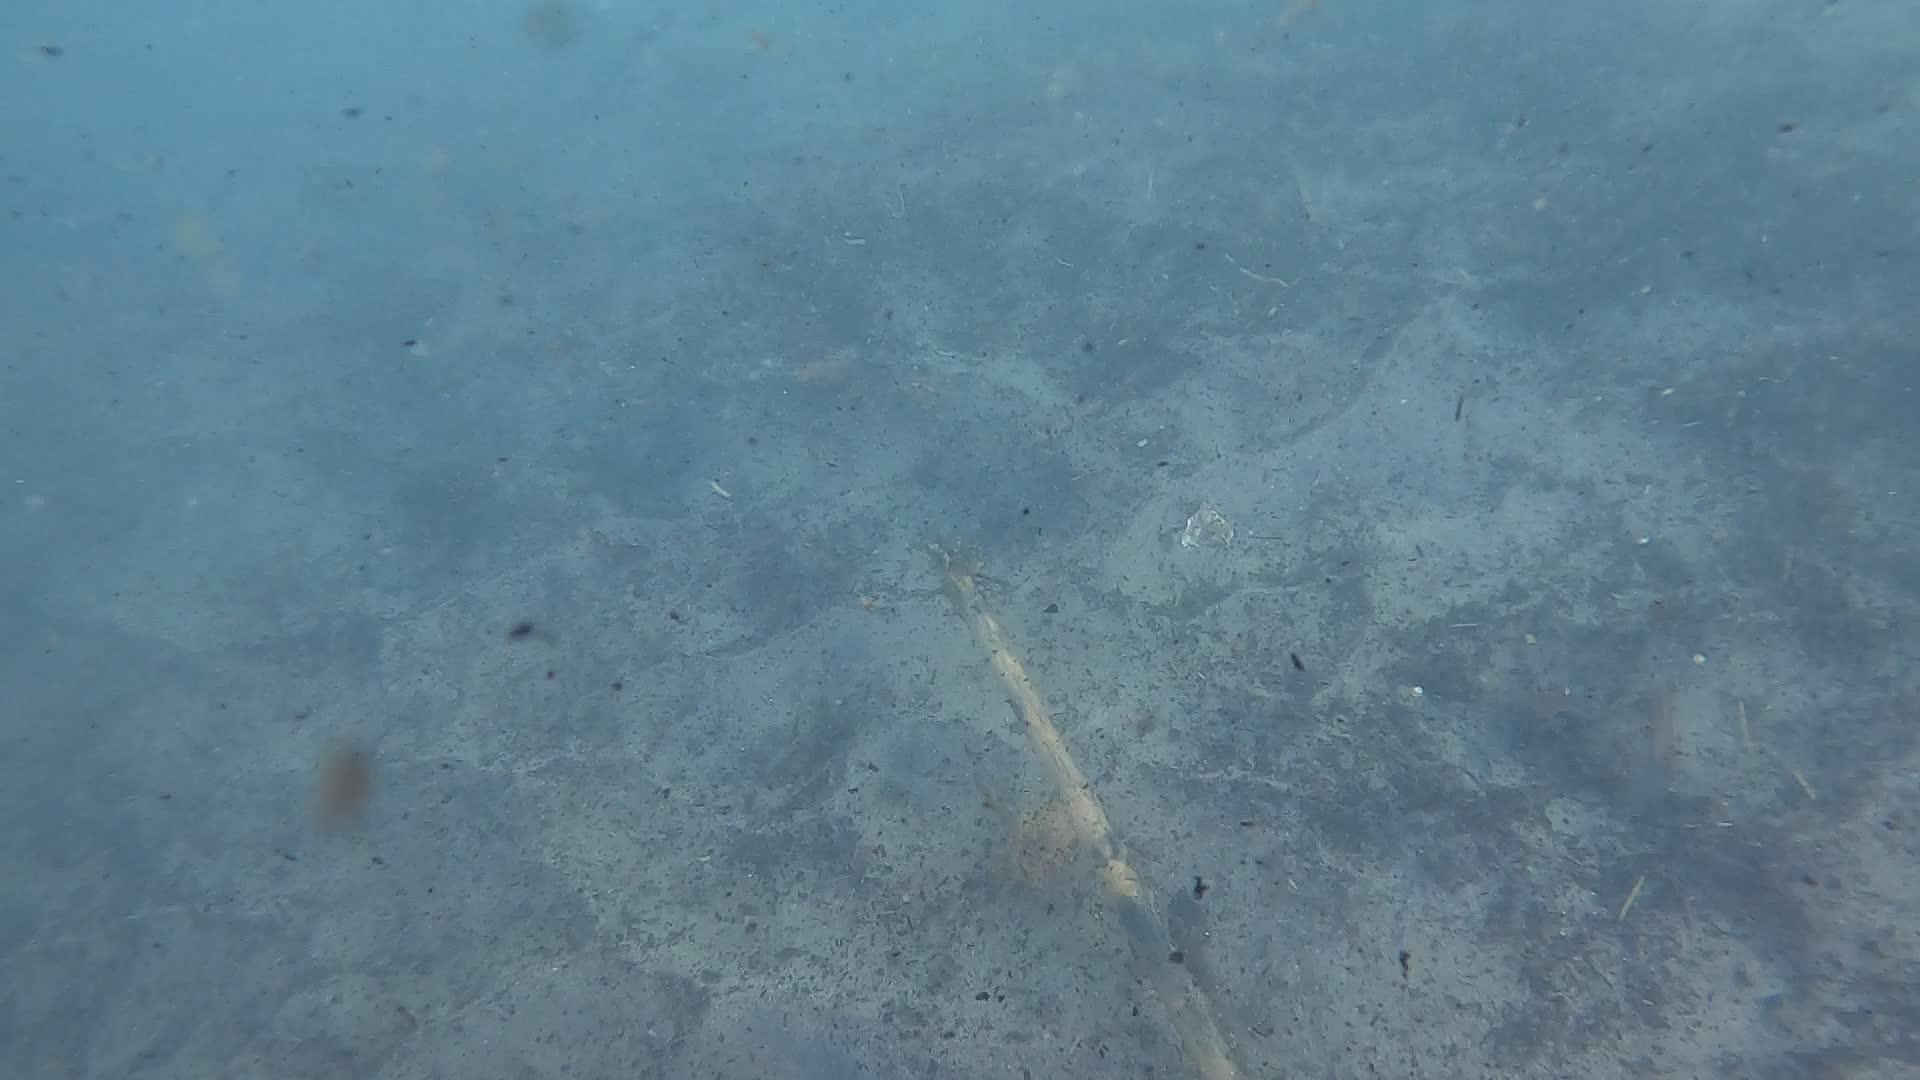wood: (923, 539, 1245, 1080)
